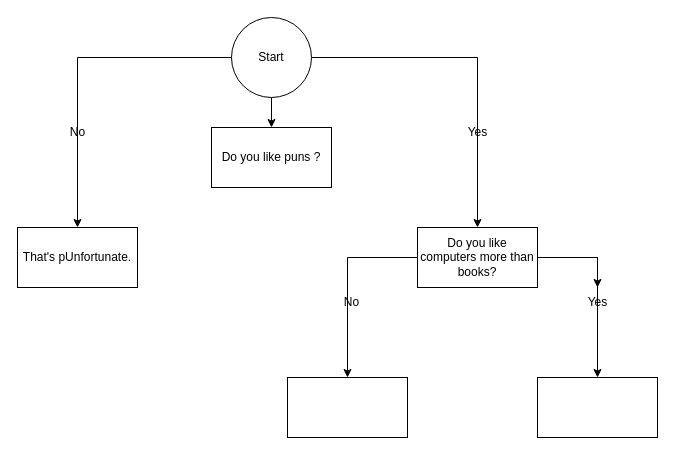
Image size: 675x455. Some labels were removed from this diagram. The centre of each missing label's shape, as x and y in pixels:
I hope the police book you for saying that.: point 347,407
You will be glad to C this pun, then.: point 597,407
